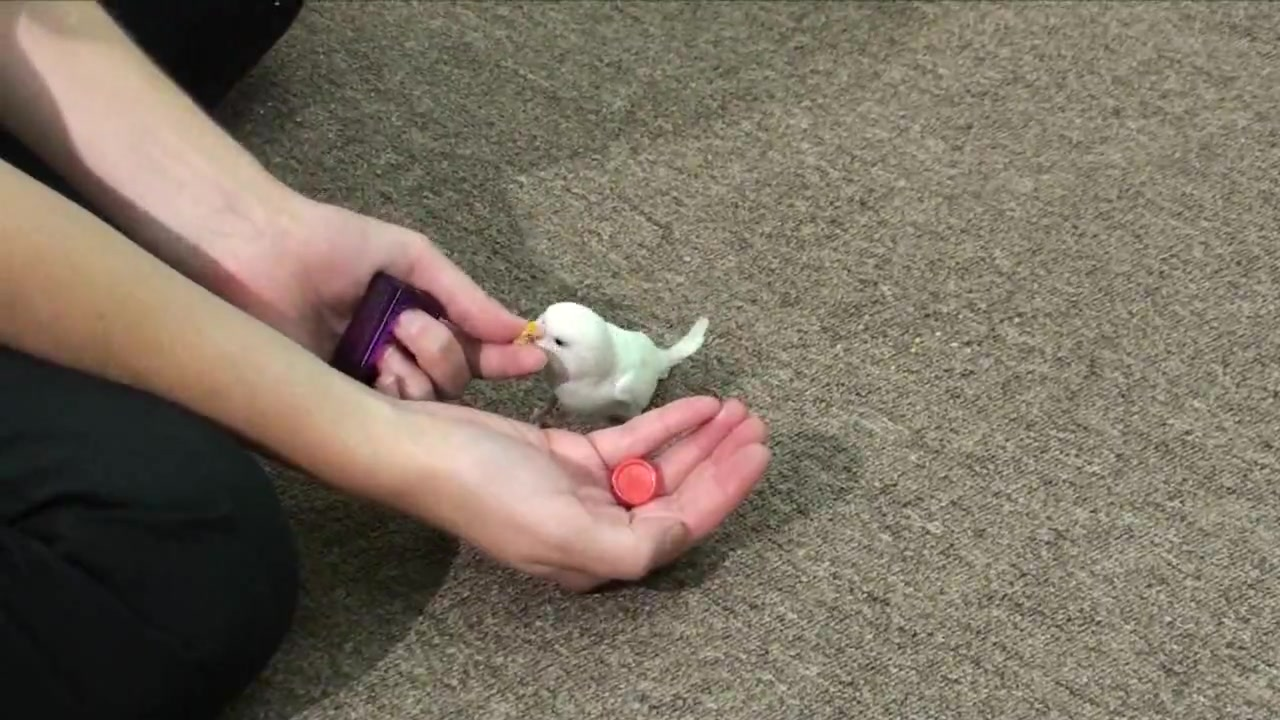bird: (520, 302, 710, 430)
